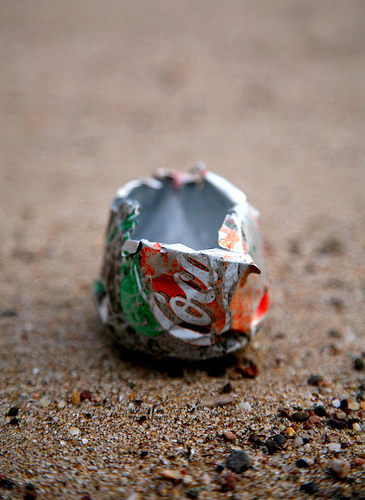litter: (97, 166, 269, 358)
